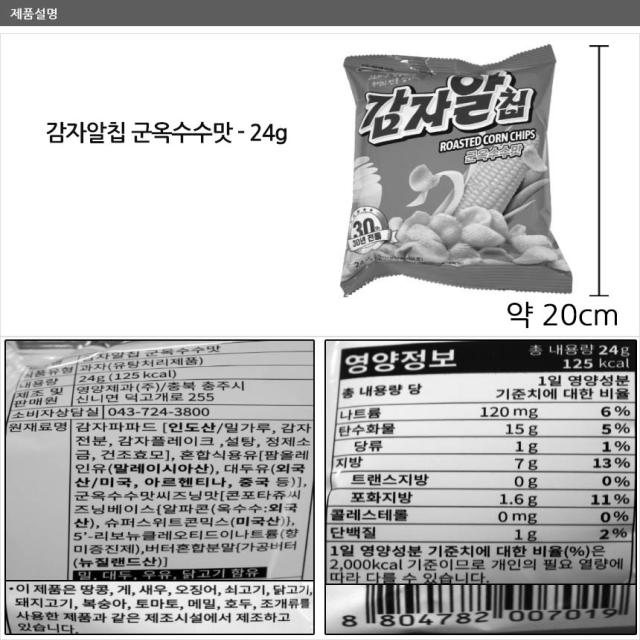Nutrition Label: (322, 332, 640, 592)
